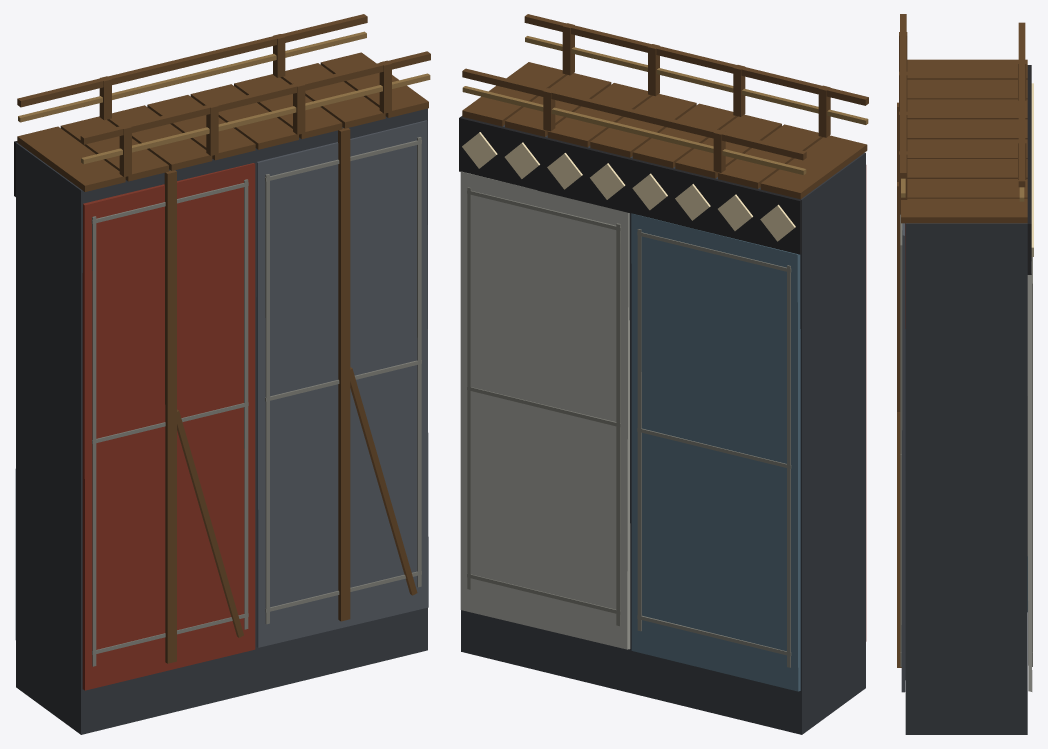
Rendered from fort_ship_wall.glb.
3 views of the same model, side by side, from view 1: azimuth 30°, elevation 25°; view 2: azimuth 150°, elevation 25°; view 3: azimuth 270°, elevation 25° (orthographic). The views are drawn at different scales.
Visible parts, largest first — view 1: fort_ship_wall; view 2: fort_ship_wall; view 3: fort_ship_wall.
Boxes of the visible parts, x1,y1,x2,y2 form: fort_ship_wall: (14,14,430,734); fort_ship_wall: (459,14,868,734); fort_ship_wall: (897,14,1033,734).
Size of the model in its own units: 8 by 13.2 by 2.91.
